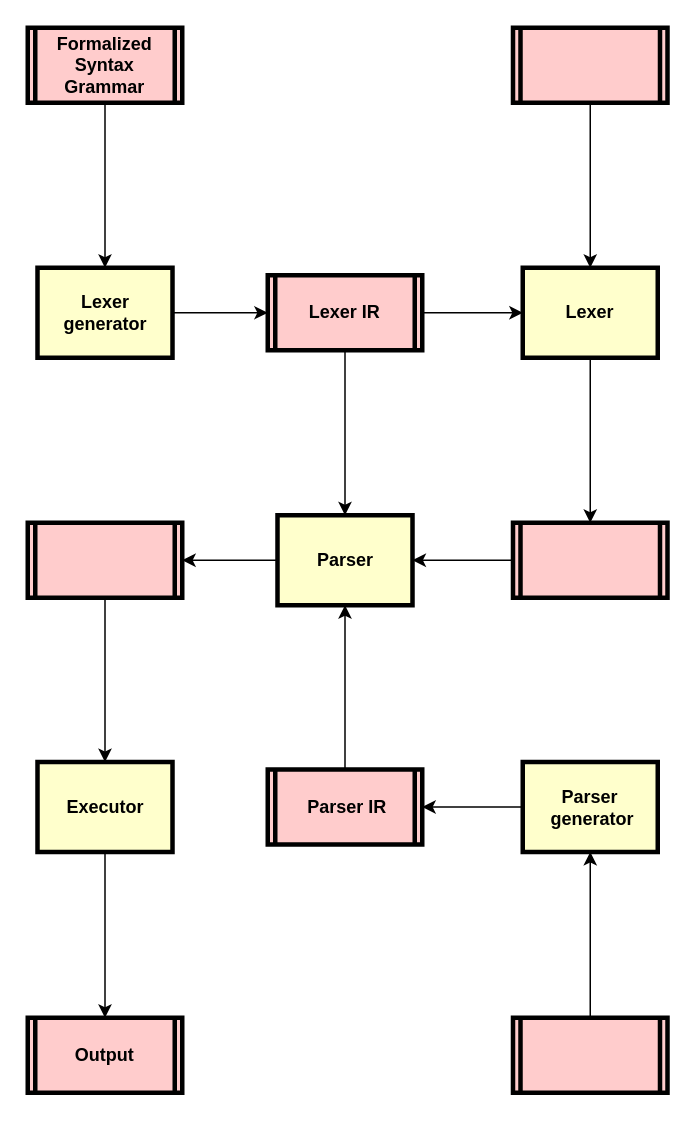
Image size: 696x1121. Some labels were removed from this diagram. The centre of each missing label's shape, as x and y in pixels:
Abstract Syntax Tree: the point at 104,559
Concrete Syntax Tree: the point at 589,559
Formalized Semantic Grammar: the point at 589,1054
Input: the point at 589,64
